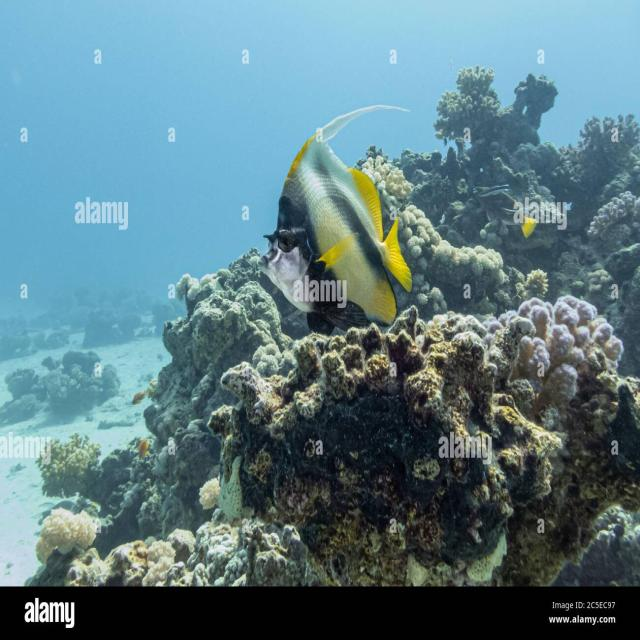MorishIdol: (255, 102, 415, 335)
